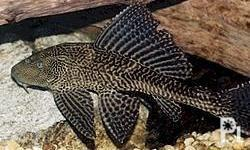Janitor Fish: (12, 5, 250, 145)
